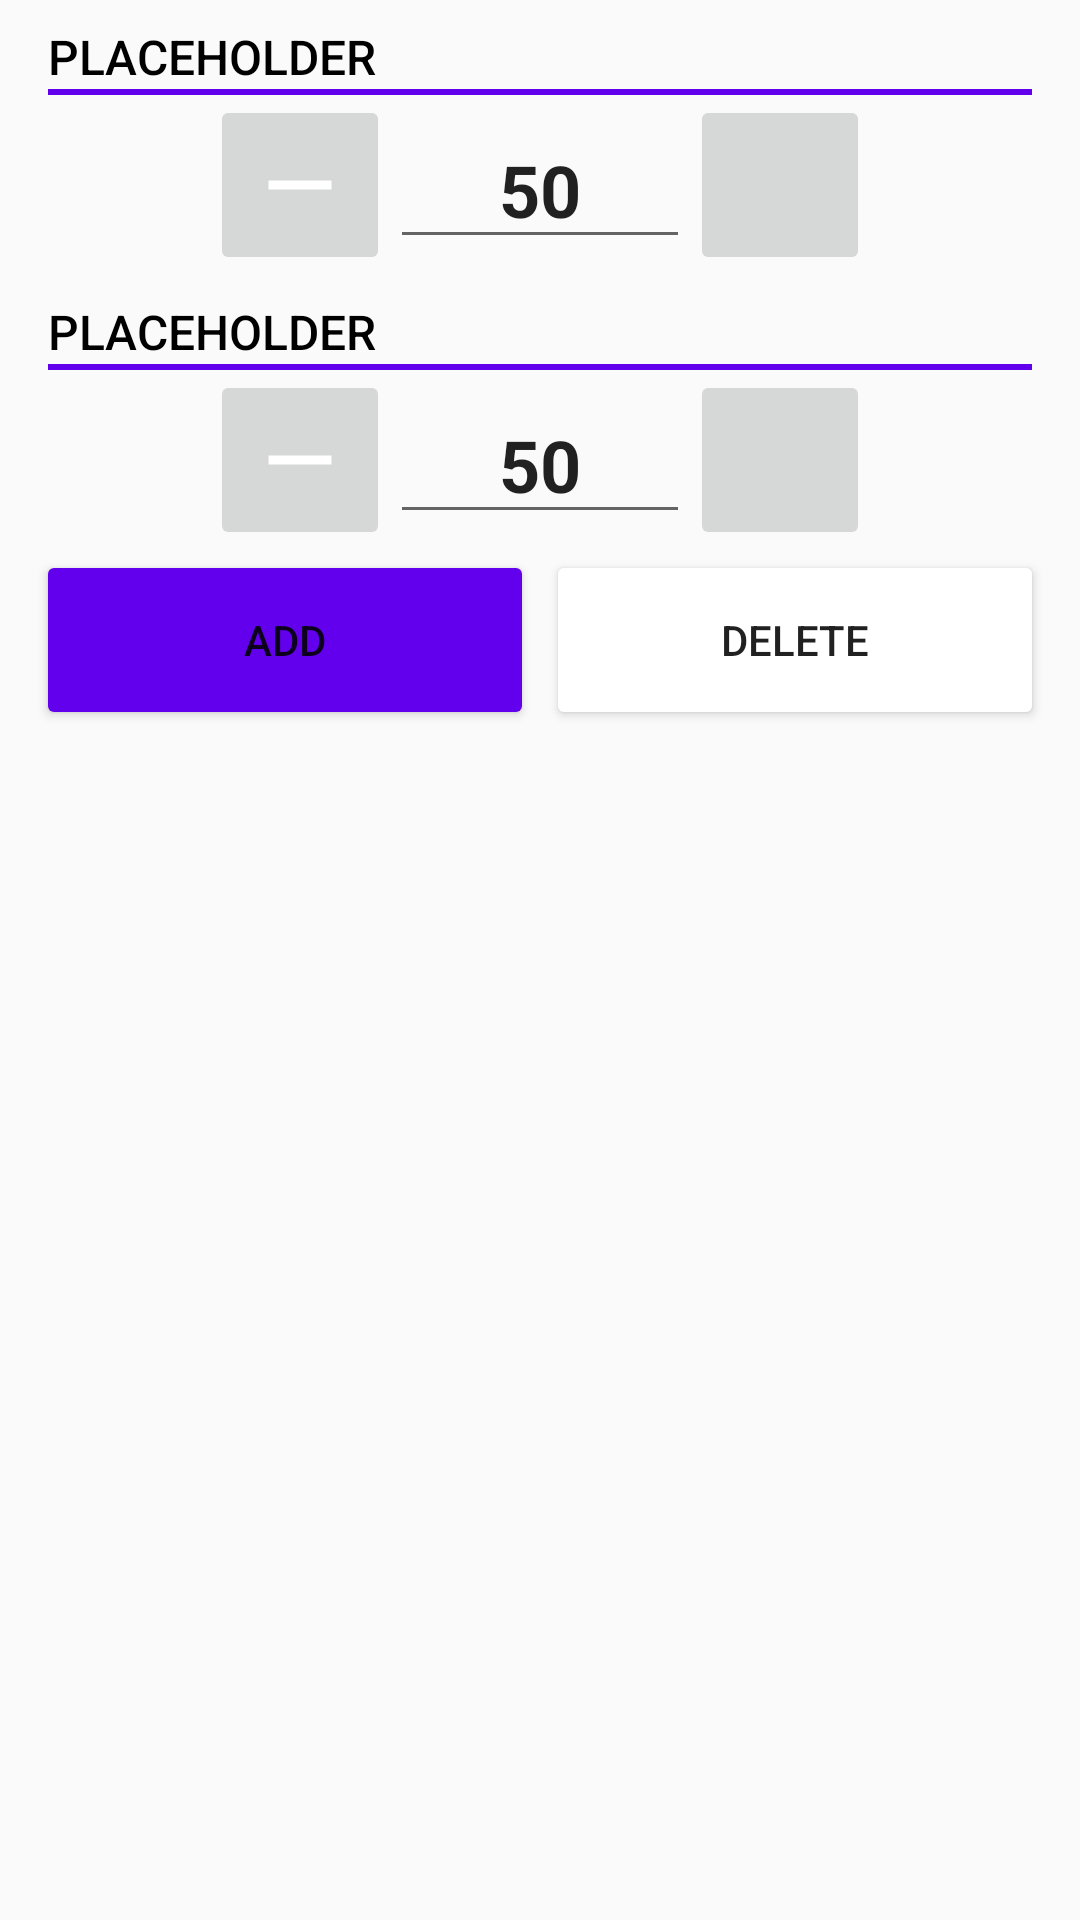

Icon click points for this 1080px×1920px phone screenshot, format (x,y):
subtract: (300,185), (300,460)
